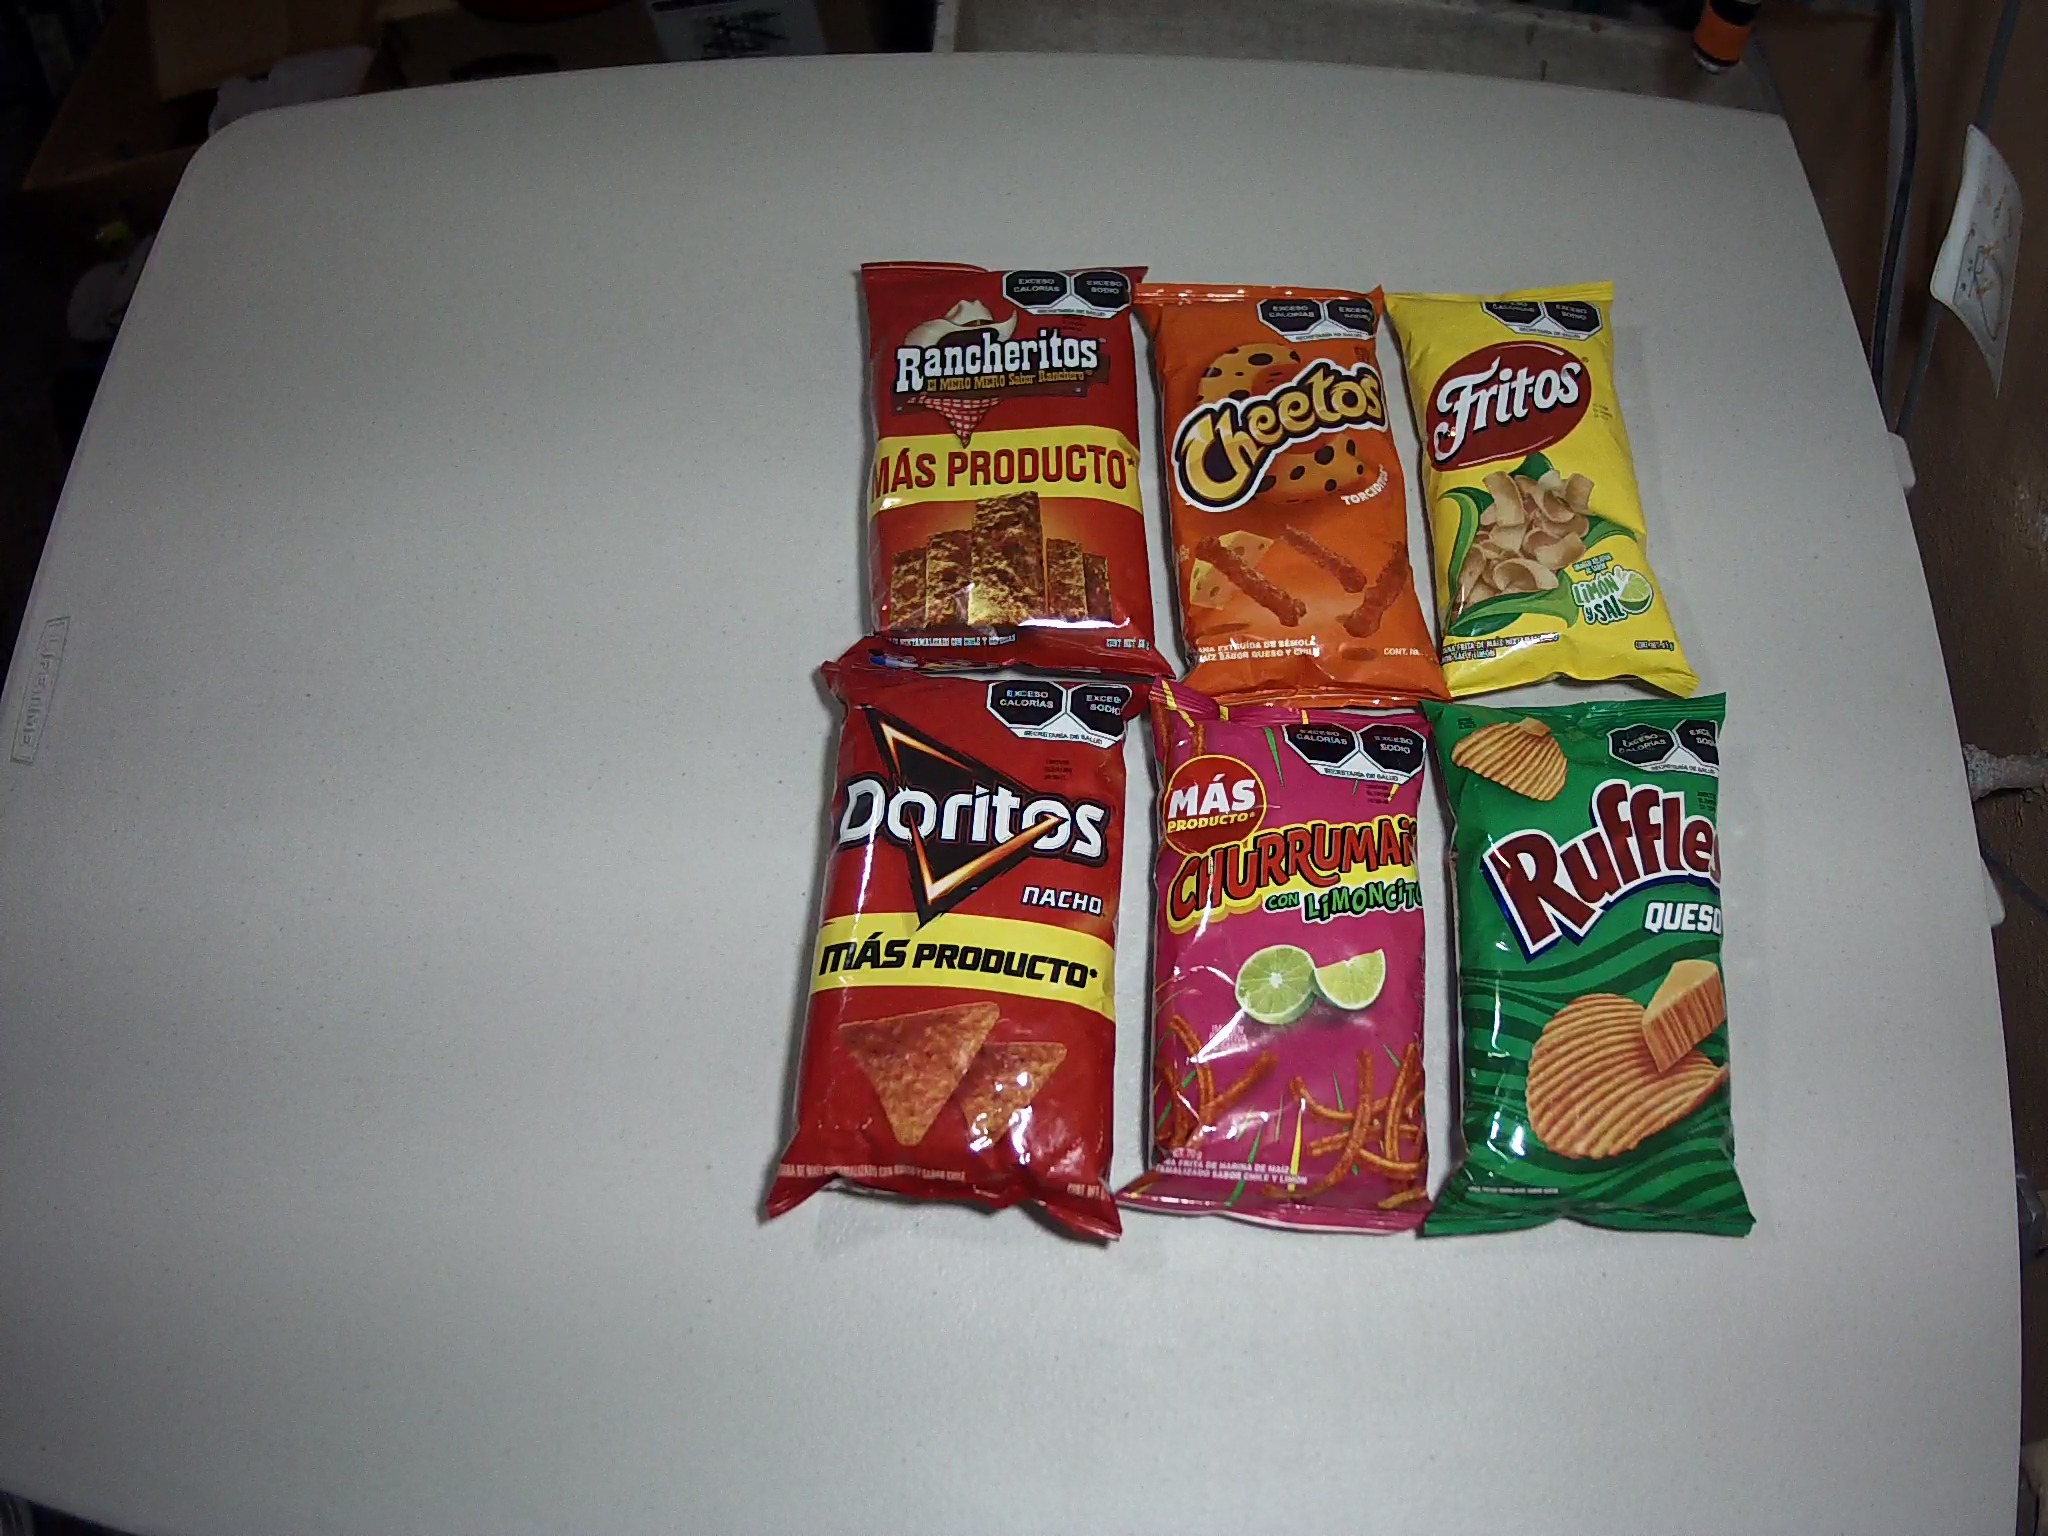CheetosTorciditos_55_F: (1130, 287, 1424, 705)
Churrumais_70_F: (1127, 678, 1434, 1233)
DoritosN_61_F: (768, 660, 1137, 1244)
FritosSalLimon_65_F: (1380, 286, 1701, 695)
Rancheritos_58_F: (845, 258, 1153, 673)
RufflesQ_48_F: (1430, 700, 1759, 1238)
